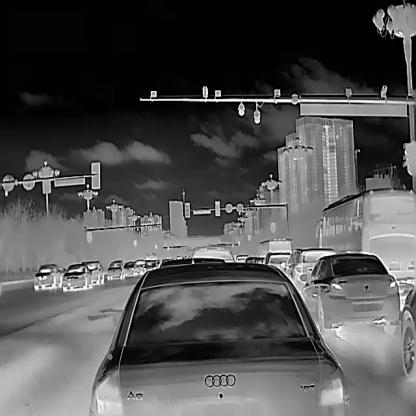bus: (312, 186, 416, 289)
car: (87, 260, 350, 415), (298, 249, 400, 332), (280, 245, 338, 286), (400, 282, 416, 382), (61, 262, 92, 290), (32, 262, 62, 289), (257, 251, 293, 271), (191, 246, 235, 262), (259, 236, 291, 256), (80, 258, 104, 284), (107, 258, 126, 280), (123, 259, 138, 276), (142, 258, 157, 273), (133, 258, 146, 274), (245, 254, 265, 264), (235, 254, 248, 263)
